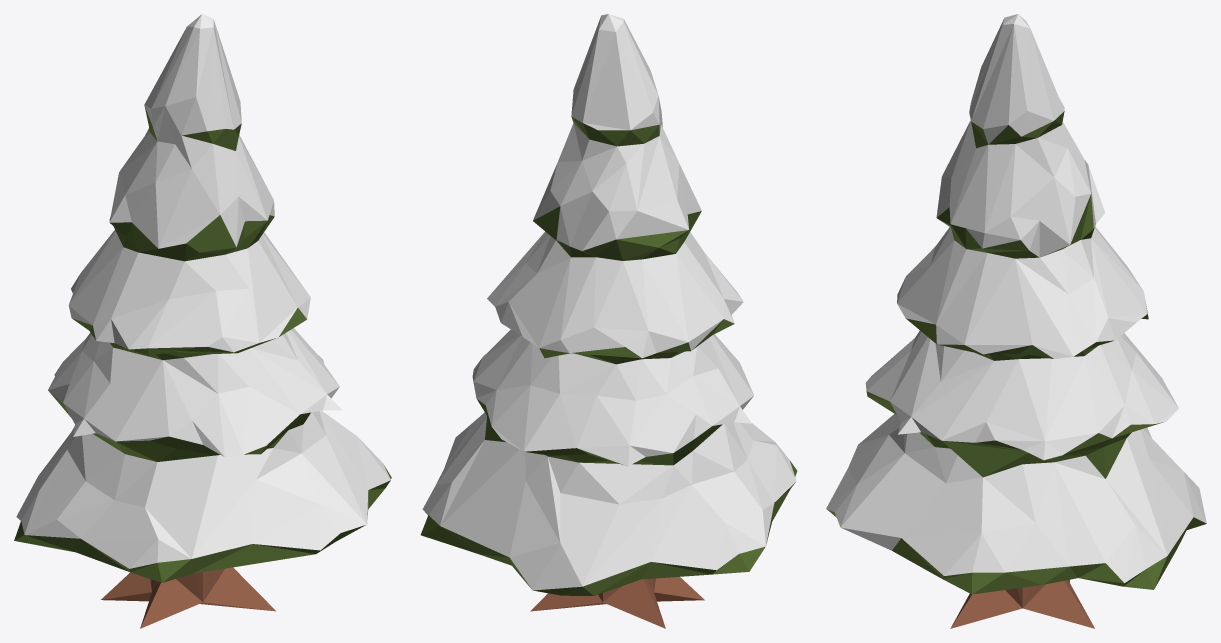
File: LightVegetationDecorationMediumSnowCovered1.fbx
The picture shows the model from 3 angles, left to right: view 1: azimuth 30°, elevation 25°; view 2: azimuth 150°, elevation 25°; view 3: azimuth 270°, elevation 25°; orthographic projection. The views are drawn at different scales.
Parts seen in each view (by area): view 1: LightVegetationDecorationMediumSnowCovered1; view 2: LightVegetationDecorationMediumSnowCovered1; view 3: LightVegetationDecorationMediumSnowCovered1.
Part boxes in pixels (left/top/right/bottom): LightVegetationDecorationMediumSnowCovered1: left=14, top=14, right=391, bottom=628; LightVegetationDecorationMediumSnowCovered1: left=420, top=14, right=797, bottom=628; LightVegetationDecorationMediumSnowCovered1: left=826, top=14, right=1206, bottom=628.
Bounding box in the file's own units: 450 × 752 × 434.
